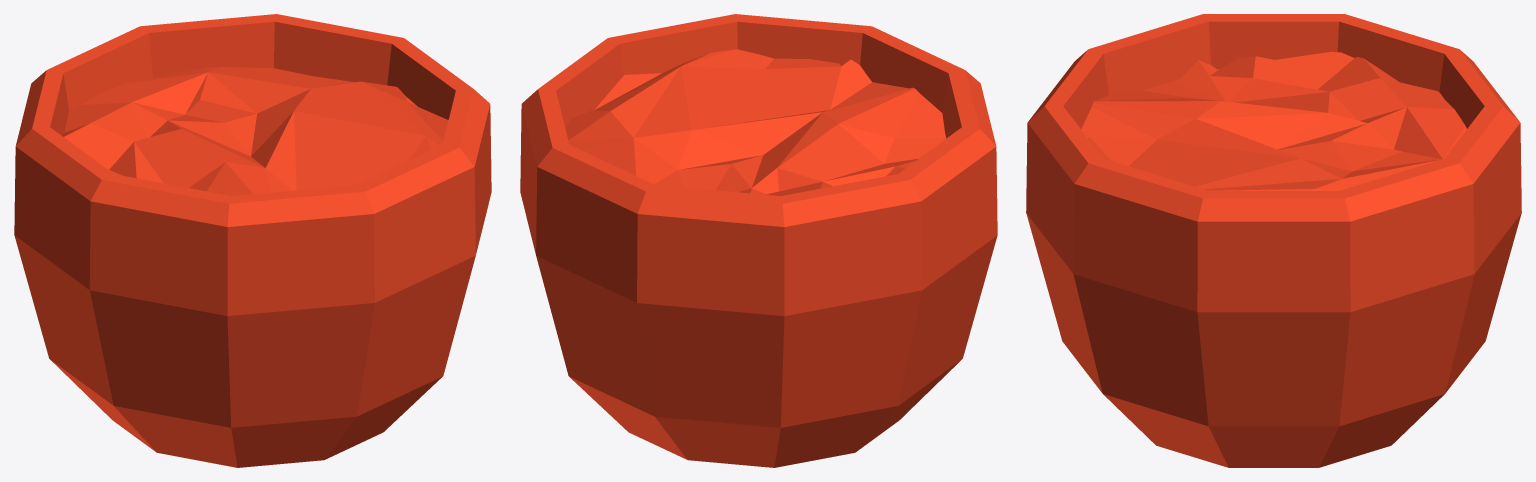
File: SM_Flowerpot_E.fbx
3 renders of one model, left to right at view 1: azimuth 30°, elevation 25°; view 2: azimuth 150°, elevation 25°; view 3: azimuth 270°, elevation 25°, orthographic.
Visible parts, largest first — view 1: SM_Flowerpot_E; view 2: SM_Flowerpot_E; view 3: SM_Flowerpot_E.
Boxes of the visible parts, x1=… form: SM_Flowerpot_E: x1=14, y1=14, x2=491, y2=467; SM_Flowerpot_E: x1=520, y1=14, x2=997, y2=467; SM_Flowerpot_E: x1=1026, y1=14, x2=1521, y2=467.
Bounding box in the file's own units: 0.7515 × 0.5338 × 0.7902.
